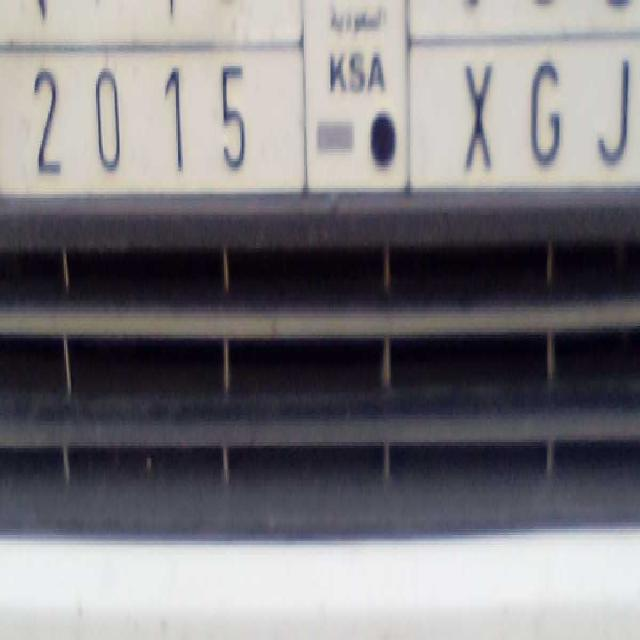license_plate: (1, 38, 640, 188)
